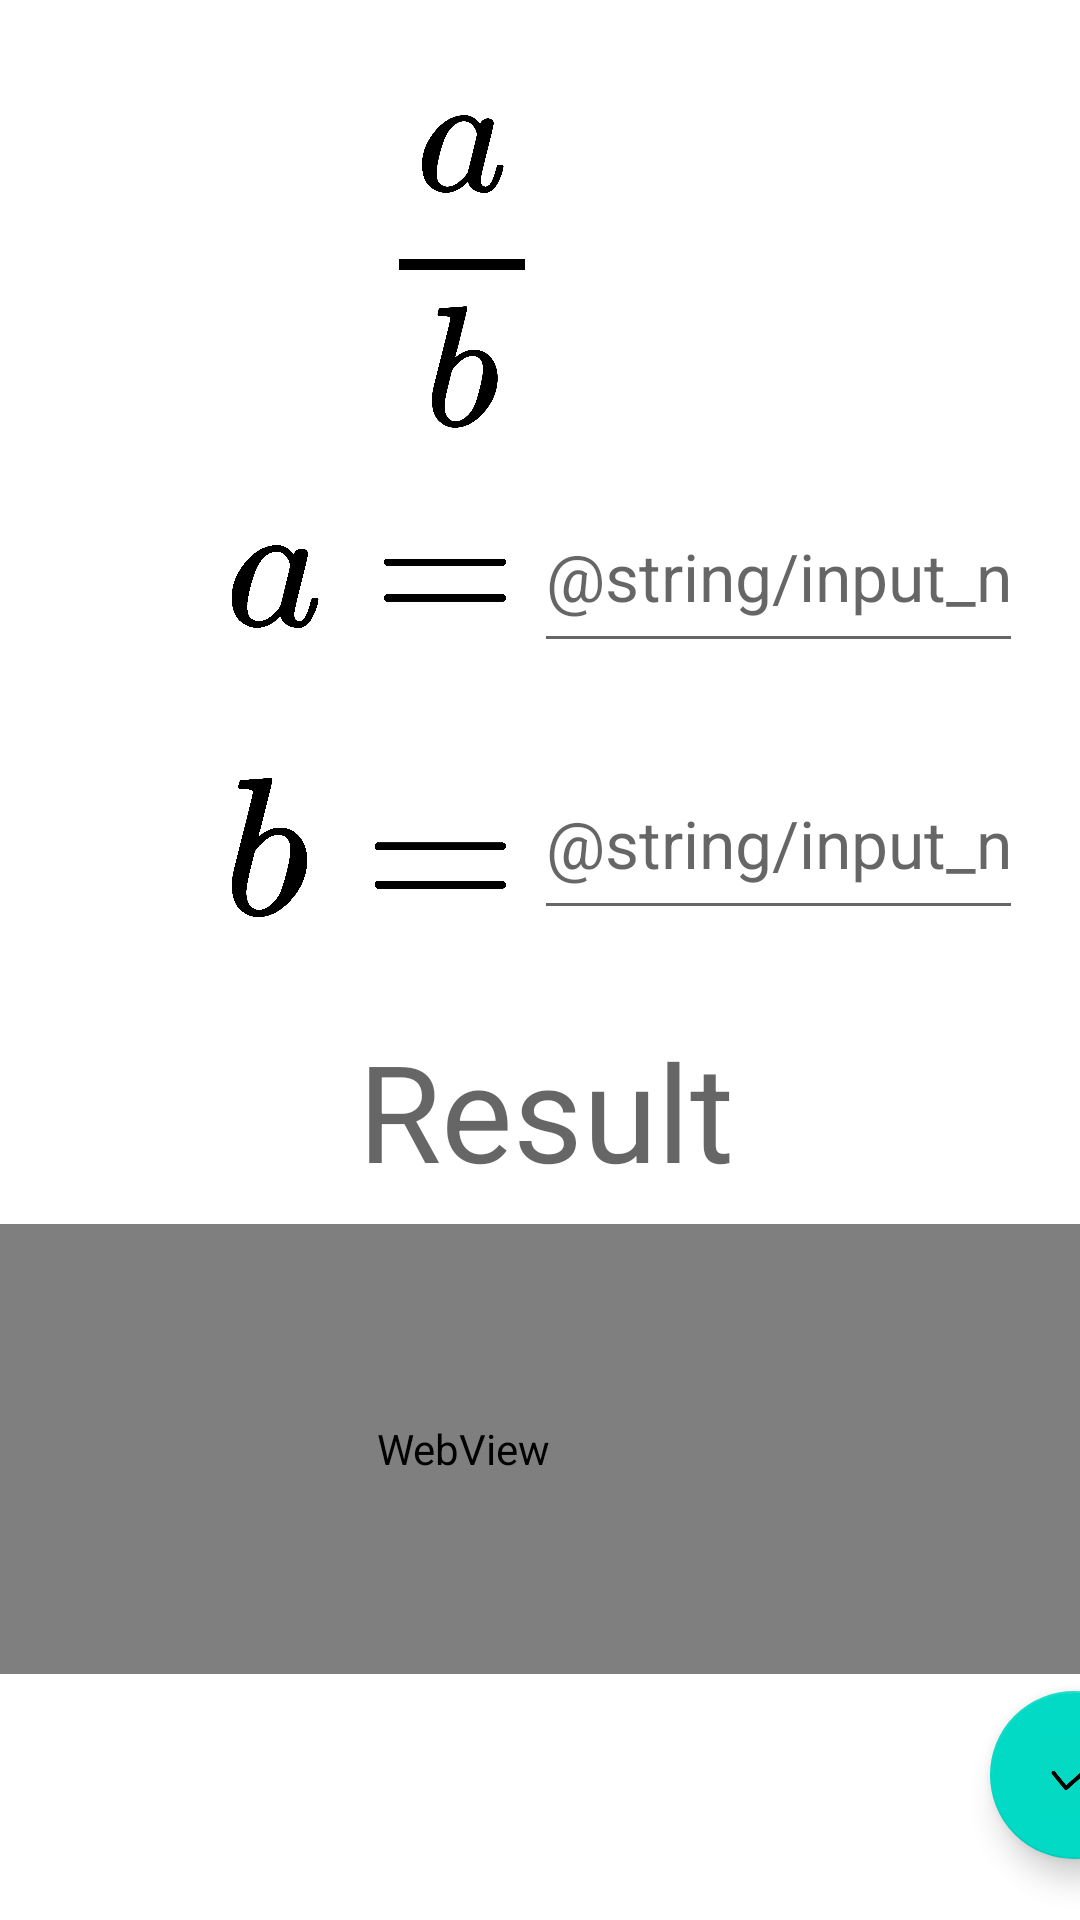

Locate icon controls on the screen. Image size 1080 x 1920, boxes as (x1, y1, x2, y2).
Formula Hint: (399, 115, 525, 428)
